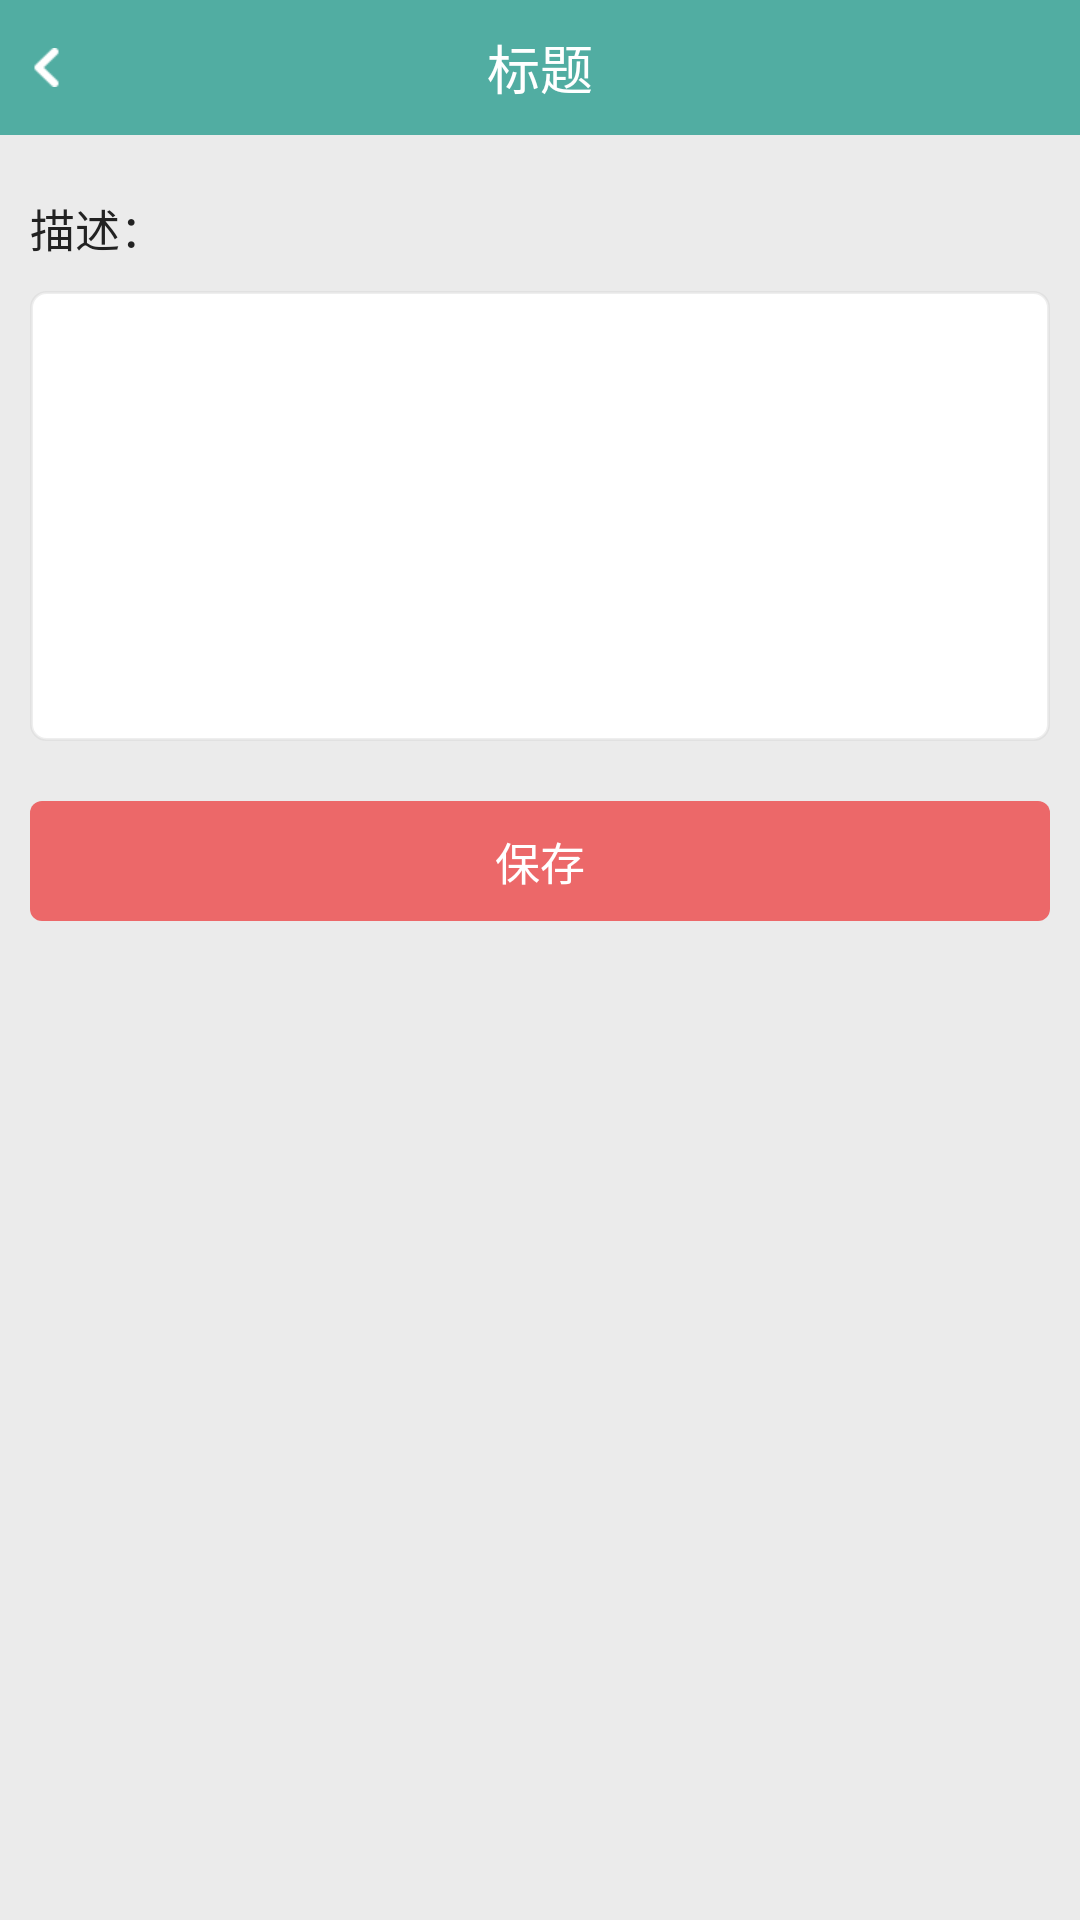

Icon bounding boxes for this 1080w x 1920h phone screenshot, format (x1, y1, x2, y2):
back index: (34, 48, 59, 87)
